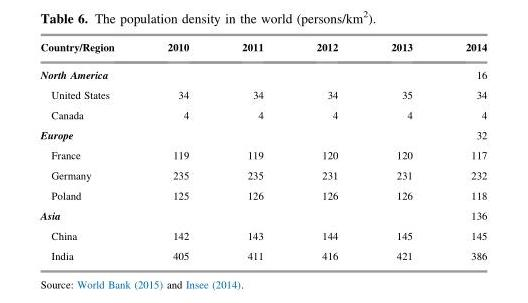table: (39, 39, 486, 261)
table column: (39, 39, 140, 261), (214, 39, 289, 261), (363, 39, 438, 261), (140, 39, 214, 261), (289, 39, 363, 261), (438, 39, 486, 261)
table column header: (39, 39, 486, 59)
table row: (39, 59, 486, 83), (39, 83, 486, 104), (39, 123, 486, 144), (39, 39, 486, 59), (39, 144, 486, 164), (39, 164, 486, 184), (39, 184, 486, 204), (39, 204, 486, 224), (39, 224, 486, 244), (39, 104, 486, 123), (39, 244, 486, 261)
